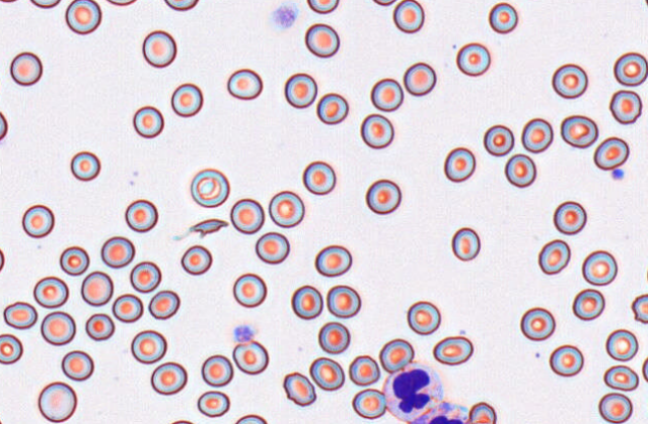GRAN: (384, 364, 440, 417), (409, 400, 471, 424)
PLT: (232, 322, 259, 342), (611, 168, 626, 181)
RBC: (37, 381, 77, 422), (190, 168, 229, 207), (268, 190, 304, 227), (581, 250, 617, 286), (365, 178, 401, 214), (130, 329, 167, 364), (551, 63, 588, 98), (142, 29, 176, 67), (560, 114, 598, 148), (40, 310, 76, 345), (229, 198, 264, 234), (150, 361, 187, 395), (314, 244, 352, 277), (432, 335, 473, 365), (309, 356, 344, 391), (379, 338, 414, 373), (520, 306, 555, 341), (406, 300, 441, 335), (232, 272, 267, 307), (613, 51, 648, 86), (232, 340, 268, 374), (65, 0, 101, 34), (593, 136, 629, 170), (360, 113, 394, 149), (282, 371, 316, 406), (326, 284, 361, 318), (304, 23, 339, 57), (302, 160, 336, 195), (80, 270, 113, 306), (33, 275, 69, 308), (284, 72, 317, 108), (456, 42, 490, 76), (403, 61, 436, 96), (170, 82, 203, 117), (100, 235, 135, 268), (609, 89, 642, 124), (553, 200, 586, 235), (521, 117, 553, 153), (226, 68, 262, 100), (443, 146, 475, 182), (255, 231, 289, 264), (9, 51, 42, 85), (370, 77, 403, 111), (21, 204, 54, 238), (124, 199, 158, 232), (291, 284, 323, 319), (538, 239, 570, 274), (317, 321, 350, 354), (605, 328, 638, 361), (549, 344, 583, 376), (504, 153, 536, 187), (351, 388, 386, 419), (572, 288, 605, 320), (392, 0, 424, 33), (129, 260, 161, 293), (132, 105, 164, 138), (598, 392, 632, 423), (348, 354, 380, 386), (201, 354, 233, 386), (316, 92, 348, 124), (61, 350, 94, 381), (451, 226, 480, 261), (180, 244, 212, 275), (483, 124, 514, 156), (603, 364, 639, 391), (148, 289, 180, 319), (3, 301, 37, 329), (488, 2, 518, 33), (70, 150, 100, 181), (111, 293, 143, 322), (59, 245, 89, 275), (197, 390, 230, 417), (85, 312, 114, 340), (0, 333, 23, 364), (467, 401, 496, 424), (631, 293, 648, 323), (306, 0, 339, 14), (163, 0, 199, 11), (232, 414, 268, 424), (0, 109, 8, 141), (29, 0, 61, 8), (104, 0, 138, 6), (642, 355, 648, 383), (371, 0, 397, 6), (168, 419, 198, 424), (0, 245, 5, 272), (645, 257, 648, 286), (0, 0, 19, 3), (0, 70, 2, 98)
Schistocyte: (187, 217, 231, 236)
